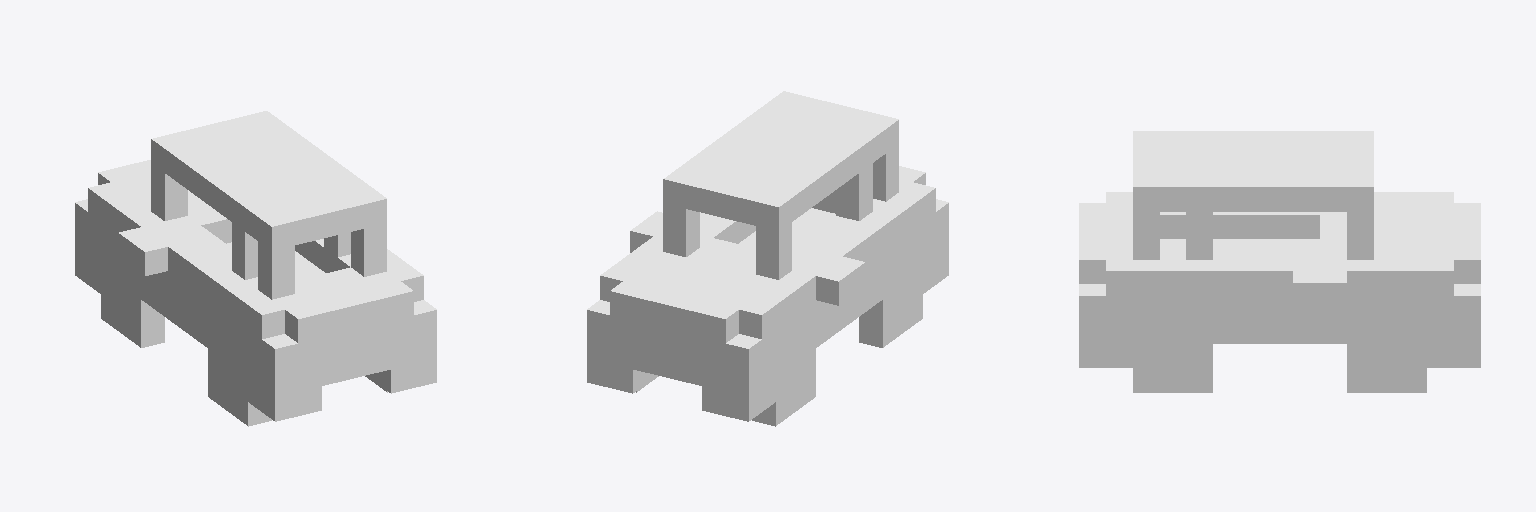
Rendered from redcar.vox.obj.
The picture shows the model from 3 angles: view 1: azimuth 30°, elevation 25°; view 2: azimuth 150°, elevation 25°; view 3: azimuth 270°, elevation 25°; orthographic projection.
Visible parts, largest first — view 1: object 1; view 2: object 1; view 3: object 1.
Boxes of the visible parts, x1=… form: object 1: x1=75, y1=111, x2=436, y2=426; object 1: x1=587, y1=91, x2=948, y2=426; object 1: x1=1079, y1=131, x2=1480, y2=392.
Size of the model in its own units: 0.9 by 0.8 by 1.5.